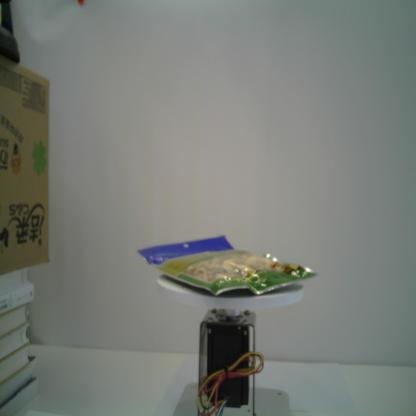Dried Fruit: (137, 234, 320, 298)
